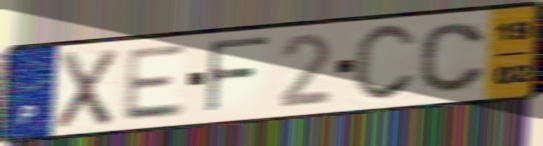2: (274, 31, 334, 112)
C: (350, 21, 420, 105), (417, 20, 489, 95)
E: (119, 42, 189, 124)
F: (202, 34, 274, 117)
X: (53, 46, 121, 132)
